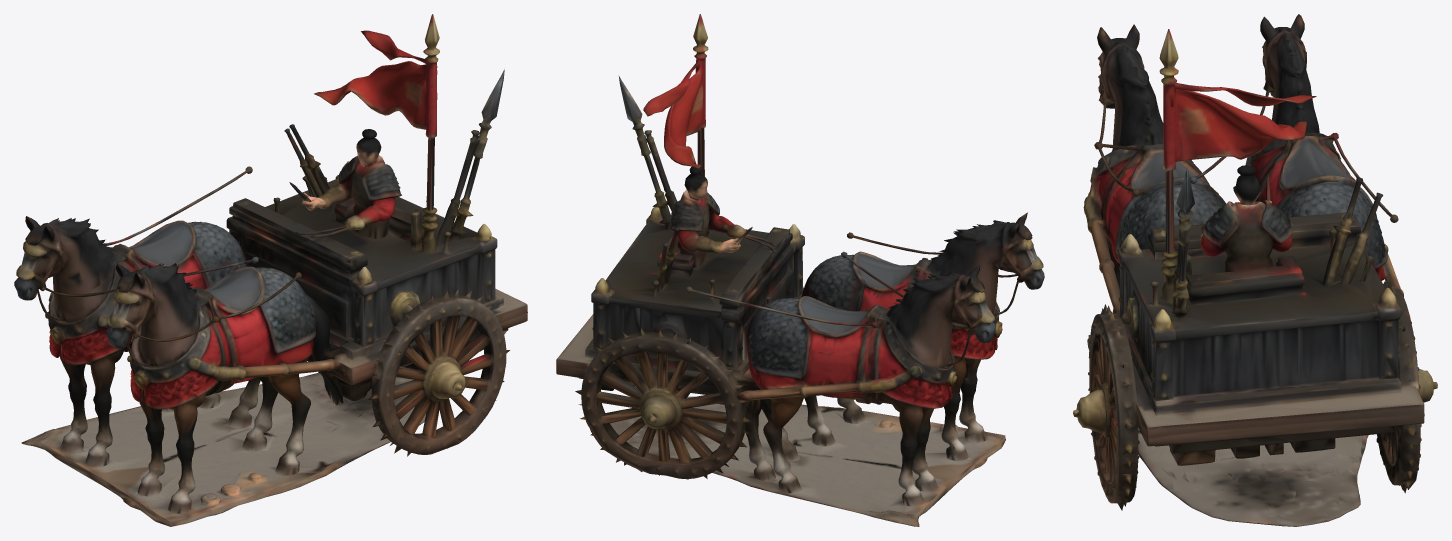
Rendered from chariot-red-hy3-v1.glb.
3 renders of one model, left to right at view 1: azimuth 30°, elevation 25°; view 2: azimuth 150°, elevation 25°; view 3: azimuth 270°, elevation 25°, orthographic. The views are drawn at different scales.
Parts seen in each view (by area): view 1: node_0; view 2: node_0; view 3: node_0.
Part boxes in pixels (left/top/right/bottom): node_0: left=14, top=14, right=527, bottom=526; node_0: left=556, top=14, right=1044, bottom=526; node_0: left=1073, top=14, right=1437, bottom=526.
Size of the model in its own units: 2.2 by 1.94 by 1.33.
1 material, 1 textured.
